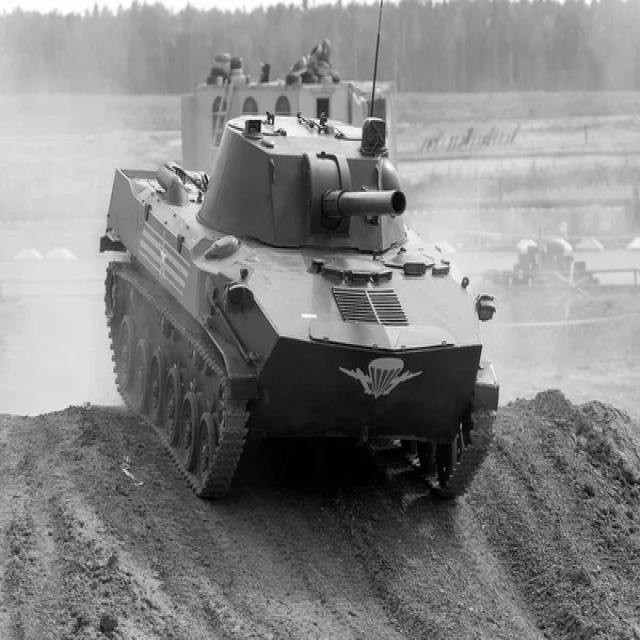Tank: (99, 93, 500, 509)
